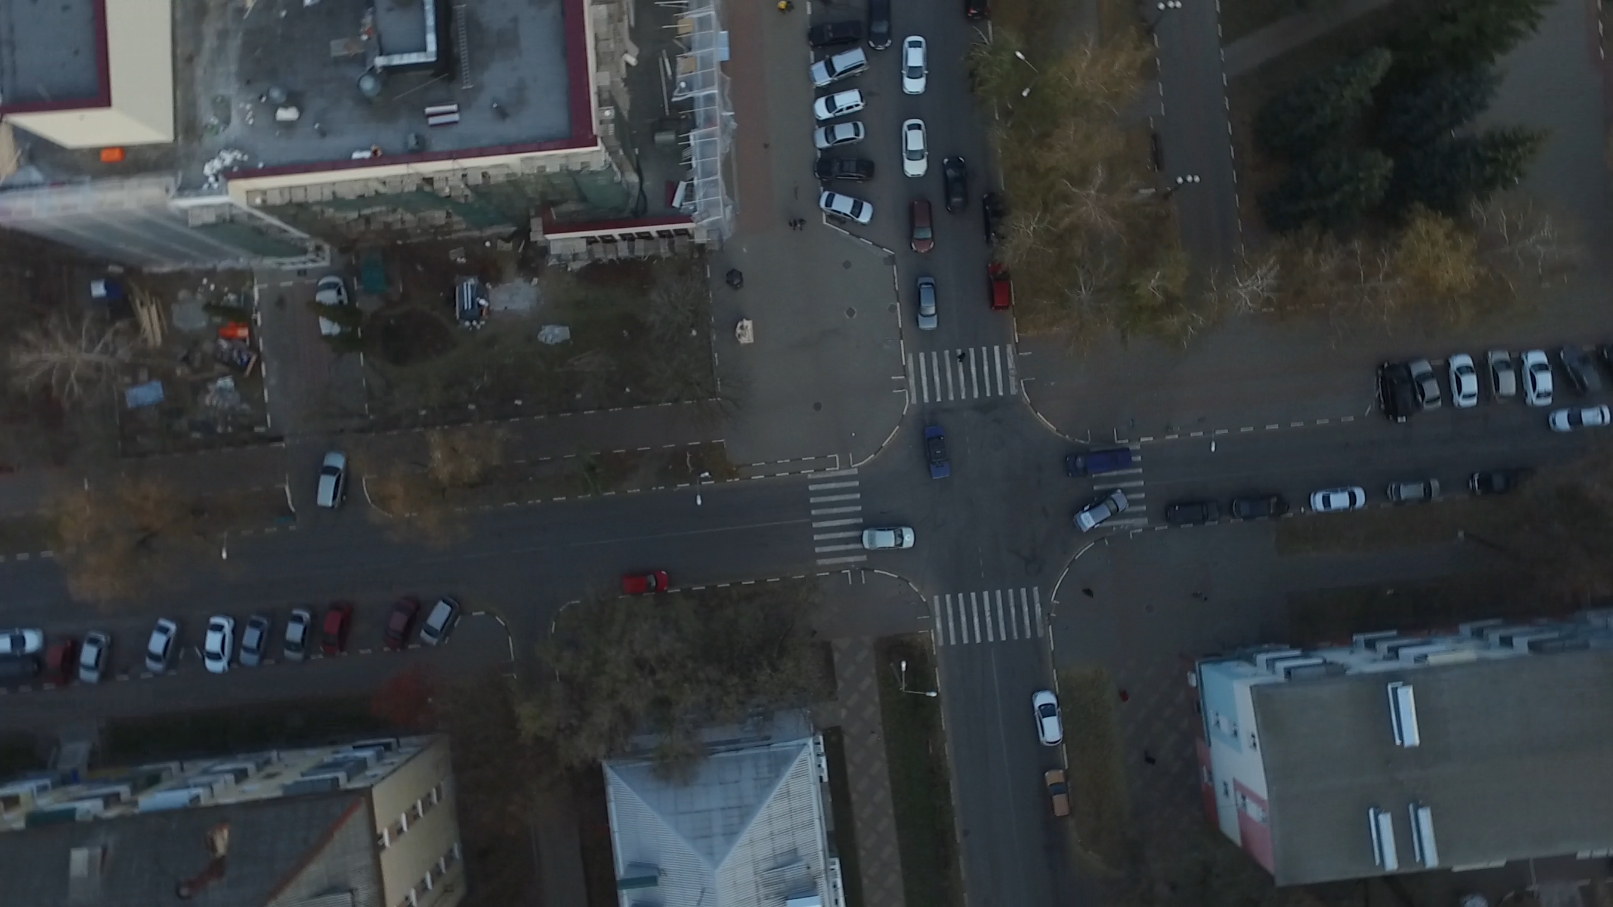car: (1071, 489, 1132, 532), (201, 611, 240, 676), (1029, 688, 1069, 751), (1557, 342, 1599, 402), (314, 447, 352, 511), (820, 186, 877, 227), (1377, 360, 1414, 423), (1066, 443, 1134, 476), (806, 47, 869, 83), (417, 598, 459, 651), (814, 154, 876, 189), (1469, 470, 1539, 499), (380, 594, 418, 649), (1408, 357, 1446, 412), (896, 118, 929, 179), (75, 631, 113, 684), (1445, 351, 1480, 408), (143, 618, 179, 672), (1524, 348, 1558, 406), (898, 32, 929, 94), (40, 635, 78, 686), (1488, 344, 1520, 403), (322, 602, 357, 657), (811, 86, 865, 121), (239, 615, 275, 667), (1545, 408, 1609, 436), (905, 197, 937, 254), (284, 609, 316, 664), (1231, 489, 1287, 521), (814, 120, 869, 152), (911, 276, 941, 333), (941, 154, 970, 212), (924, 425, 954, 482), (1165, 497, 1220, 527), (808, 18, 862, 48), (617, 569, 670, 599), (1305, 485, 1367, 511), (1042, 769, 1073, 818), (1384, 478, 1439, 506), (861, 525, 917, 552), (986, 259, 1013, 315), (982, 190, 1007, 246), (1, 628, 53, 655), (869, 1, 895, 50)
